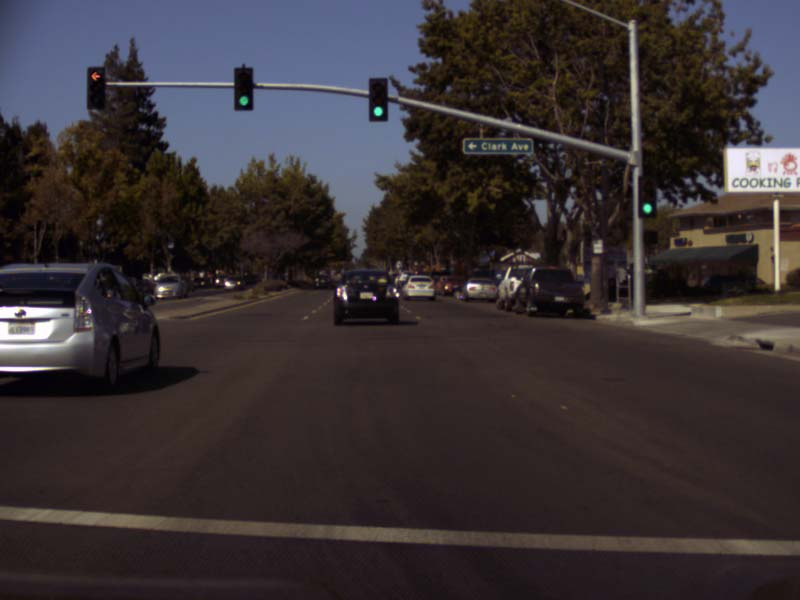Green: (369, 78, 387, 120), (234, 68, 252, 109), (639, 176, 655, 217)
Red: (87, 67, 104, 108)
